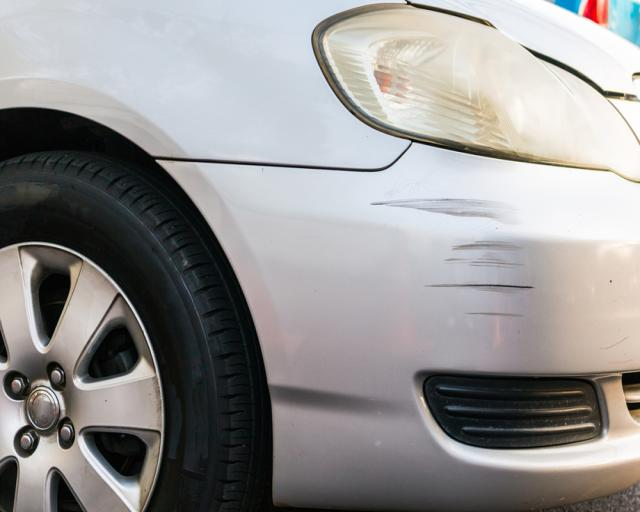scratch: (366, 194, 537, 326)
